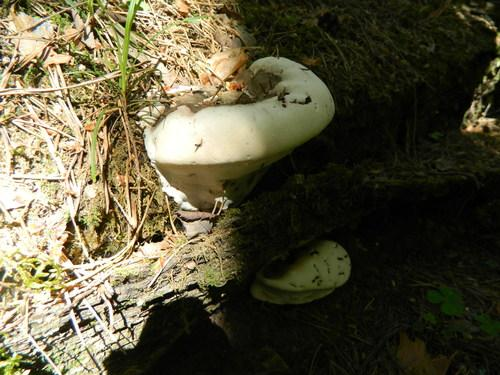Ganoderma - Fruit Body: (144, 53, 334, 184), (251, 235, 354, 307)
